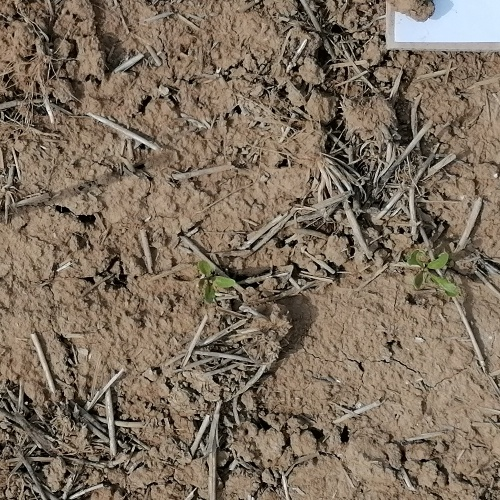beet: (413, 251, 457, 296), (199, 261, 234, 302)
